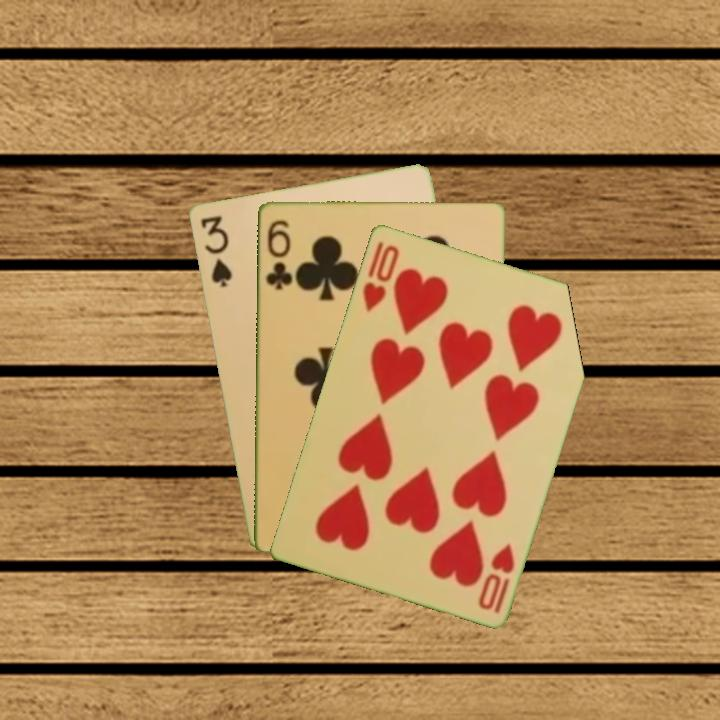10h: (474, 539, 518, 616), (358, 241, 402, 314)
3s: (196, 212, 235, 290)
6c: (261, 217, 294, 292)
